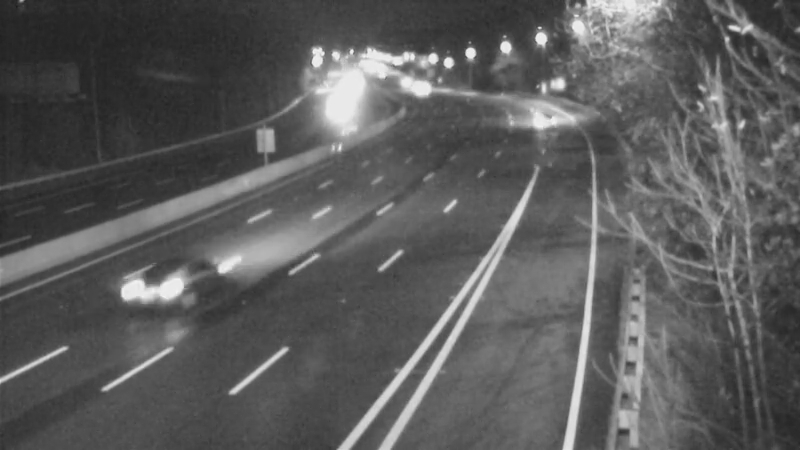vehicle: (116, 252, 196, 332), (397, 63, 447, 113), (513, 92, 563, 142)
